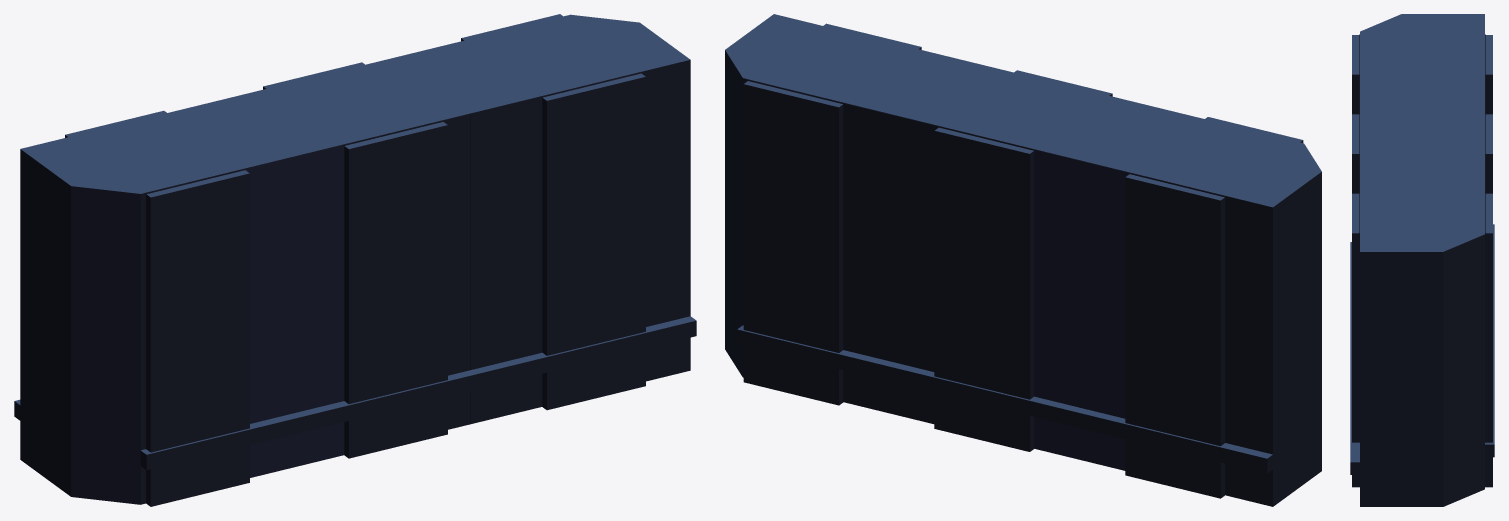
The model's file is revision-7.glb.
The picture shows the model from 3 angles, left to right: view 1: azimuth 30°, elevation 25°; view 2: azimuth 150°, elevation 25°; view 3: azimuth 270°, elevation 25°; orthographic projection. The views are drawn at different scales.
Parts seen in each view (by area): view 1: Clipped slab, Front vertical ledge 3, Front vertical ledge 1, Front vertical ledge 2, front vertical face 2, front vertical face 4, Front horizontal molding, front vertical face 3; view 2: Clipped slab, Back vertical ledge 2, Back vertical ledge 1, Back vertical ledge 3, back vertical face 2, back vertical face 4, Back horizontal molding, back vertical face 3; view 3: Clipped slab, Back vertical ledge 3, Front vertical ledge 3, Front horizontal molding, Front vertical ledge 2, Back vertical ledge 2, Front vertical ledge 1, Back vertical ledge 1, Back horizontal molding.
Part boxes in pixels (left/top/right/bottom): Clipped slab: left=20, top=14, right=690, bottom=504; Front vertical ledge 3: left=542, top=73, right=645, bottom=410; Front vertical ledge 1: left=146, top=170, right=249, bottom=506; Front vertical ledge 2: left=344, top=122, right=447, bottom=458; front vertical face 2: left=239, top=145, right=344, bottom=477; front vertical face 4: left=470, top=91, right=564, bottom=423; Front horizontal molding: left=140, top=316, right=696, bottom=470; front vertical face 3: left=344, top=114, right=470, bottom=429; Clipped slab: left=725, top=14, right=1321, bottom=506; Back vertical ledge 2: left=934, top=127, right=1034, bottom=451; Back vertical ledge 1: left=1125, top=174, right=1225, bottom=498; Back vertical ledge 3: left=743, top=81, right=843, bottom=405; back vertical face 2: left=1034, top=149, right=1134, bottom=470; back vertical face 4: left=822, top=98, right=912, bottom=418; Back horizontal molding: left=737, top=325, right=1272, bottom=473; back vertical face 3: left=912, top=120, right=1034, bottom=423; Clipped slab: left=1360, top=14, right=1484, bottom=506; Back vertical ledge 3: left=1485, top=193, right=1492, bottom=487; Front vertical ledge 3: left=1352, top=193, right=1359, bottom=487; Front horizontal molding: left=1350, top=242, right=1359, bottom=474; Front vertical ledge 2: left=1352, top=114, right=1359, bottom=193; Back vertical ledge 2: left=1485, top=114, right=1492, bottom=193; Front vertical ledge 1: left=1352, top=35, right=1359, bottom=114; Back vertical ledge 1: left=1485, top=35, right=1492, bottom=114; Back horizontal molding: left=1485, top=224, right=1494, bottom=457.
Size of the model in its own units: 108 by 54 by 27.75.
